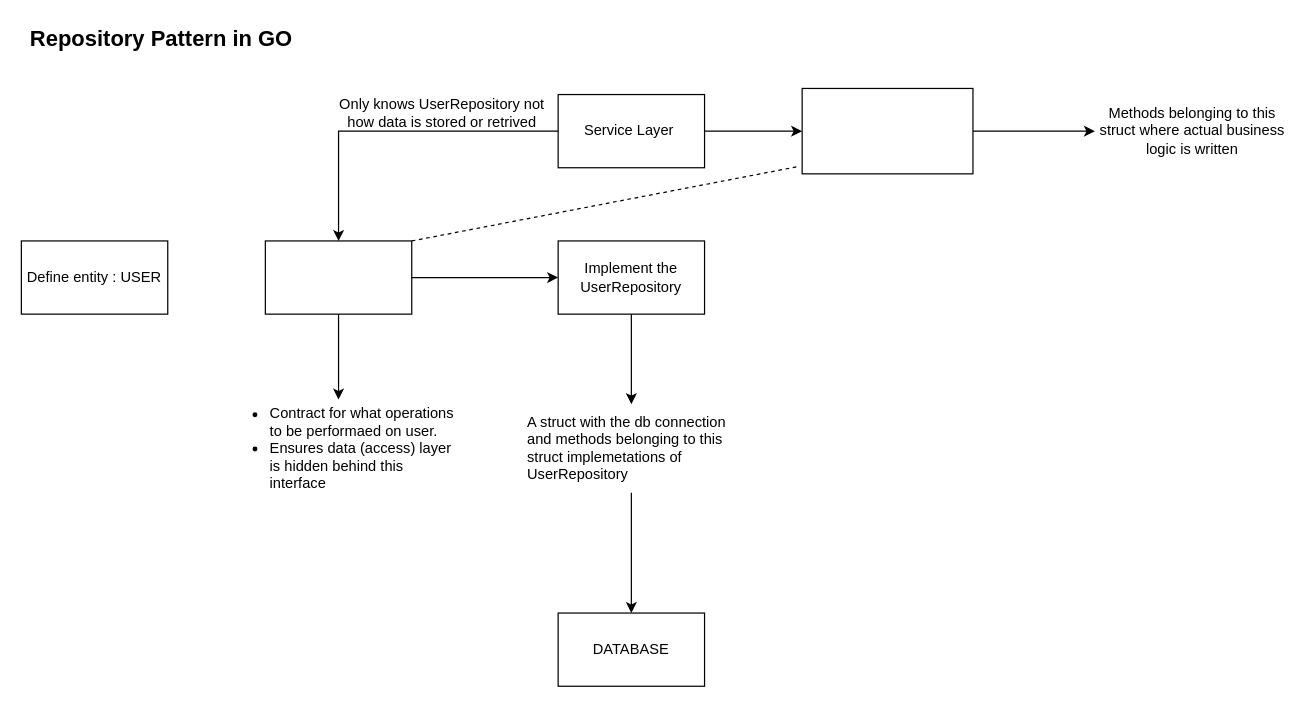
Some shapes in this 1312 by 708 pixel diagram are drawn without their labels. The shapes that lost their labels are listed below. From the top down, each one's centre as x and y in pixels, then its label:
point 887,130: CreateUserService struct with a variable repo of type UserRepository interface
point 338,277: Define Interface: UserRepository
